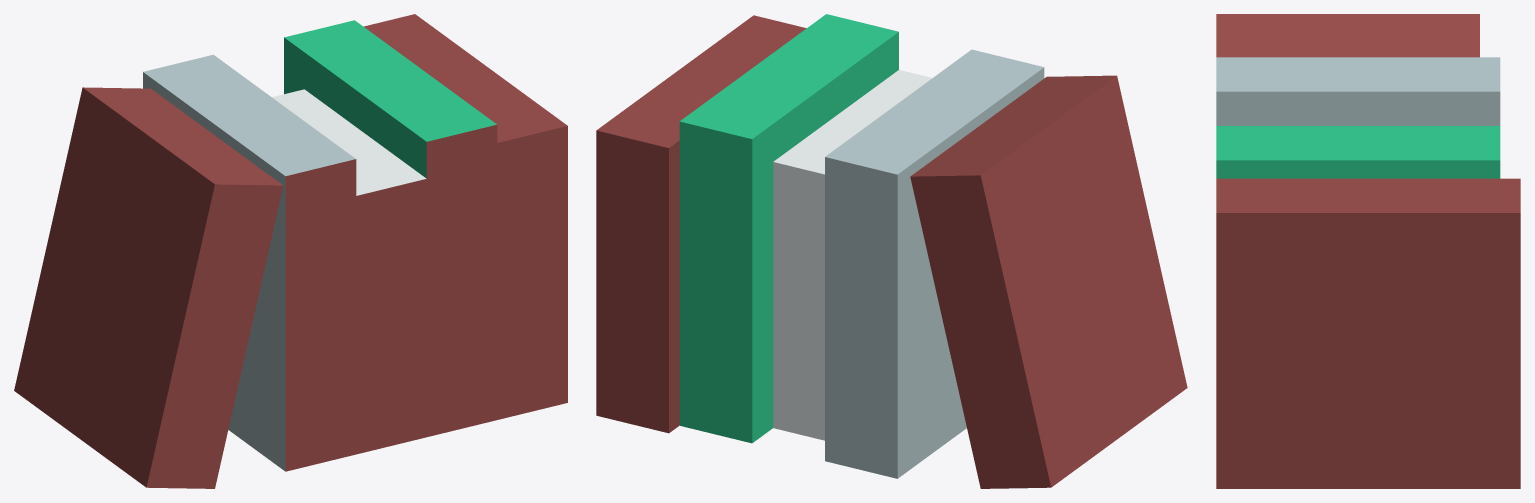
Rendered from books.dae.
3 views of the same model, side by side, from view 1: azimuth 30°, elevation 25°; view 2: azimuth 150°, elevation 25°; view 3: azimuth 270°, elevation 25° (orthographic). The views are drawn at different scales.
Visible parts, largest first — view 1: books; view 2: books; view 3: books.
Boxes of the visible parts, x1,y1,x2,y2 form: books: [14, 14, 567, 488]; books: [596, 14, 1187, 488]; books: [1216, 14, 1520, 488].
Size of the model in its own units: 0.1504 by 0.1039 by 0.0945.
